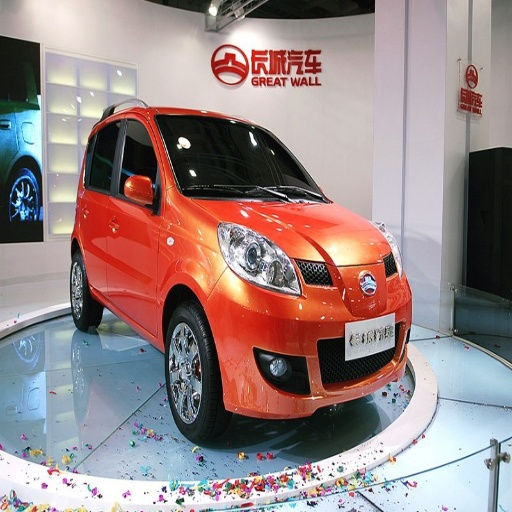front_bumper: (204, 251, 410, 418)
front_right_door: (110, 112, 162, 323)
front_right_light: (217, 221, 302, 294)
